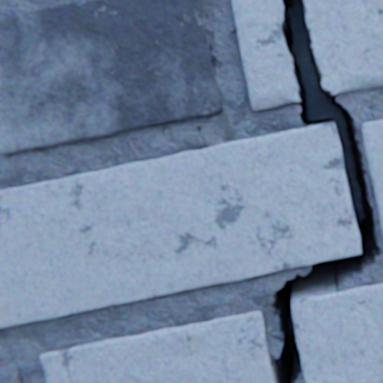brick: (0, 122, 360, 327), (0, 0, 221, 153), (41, 310, 274, 382), (292, 283, 382, 382), (362, 120, 382, 233), (0, 362, 21, 382)
broken_brick: (232, 0, 299, 110), (304, 0, 382, 94)
crack: (271, 0, 381, 382)
